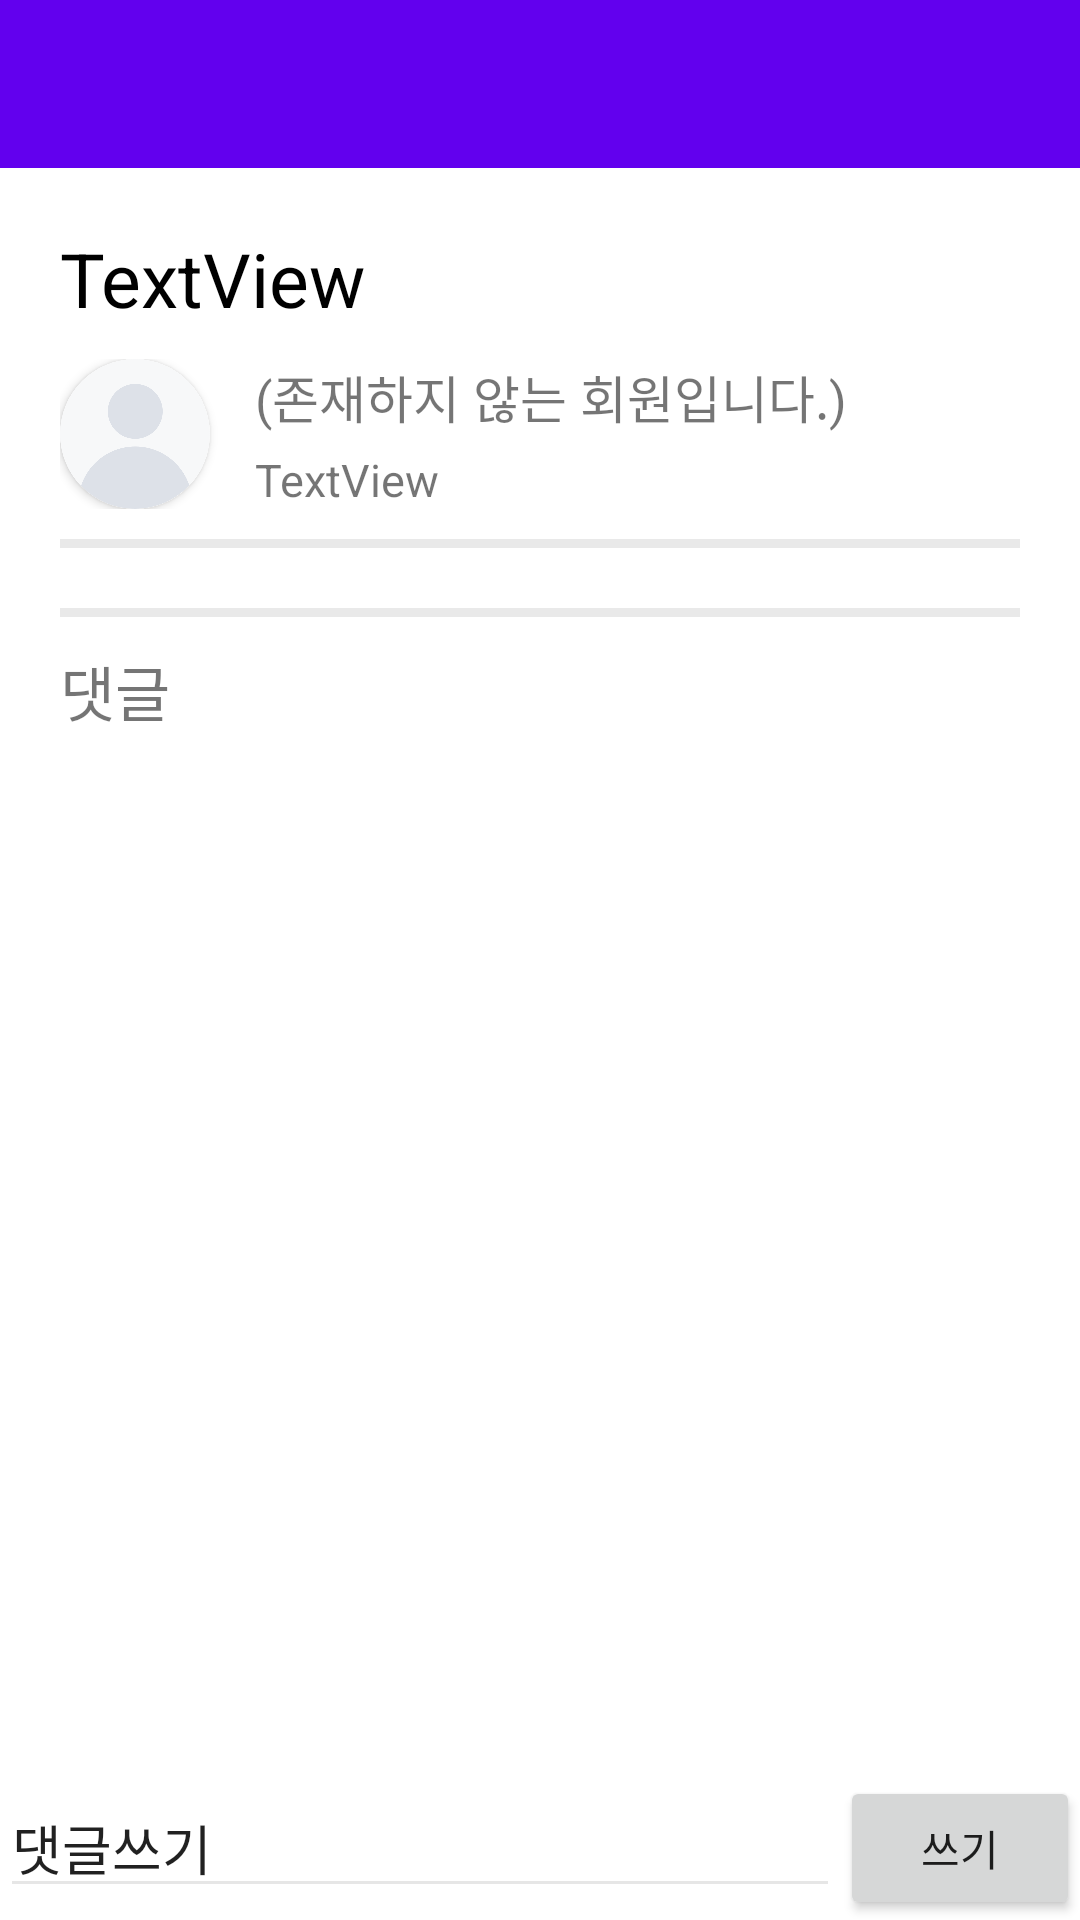

Locate icon controls on the screen. Image size 1080px×1920px, boxes as region(x1, y1, x2, y2).
profile: region(60, 384, 189, 509)
